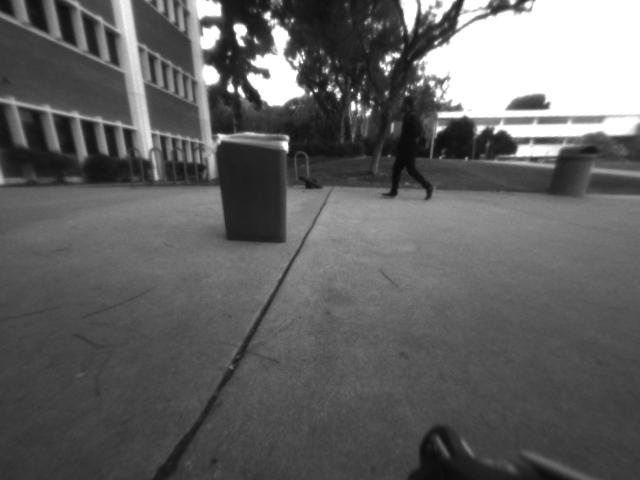trashcan_open: (202, 128, 299, 256)
